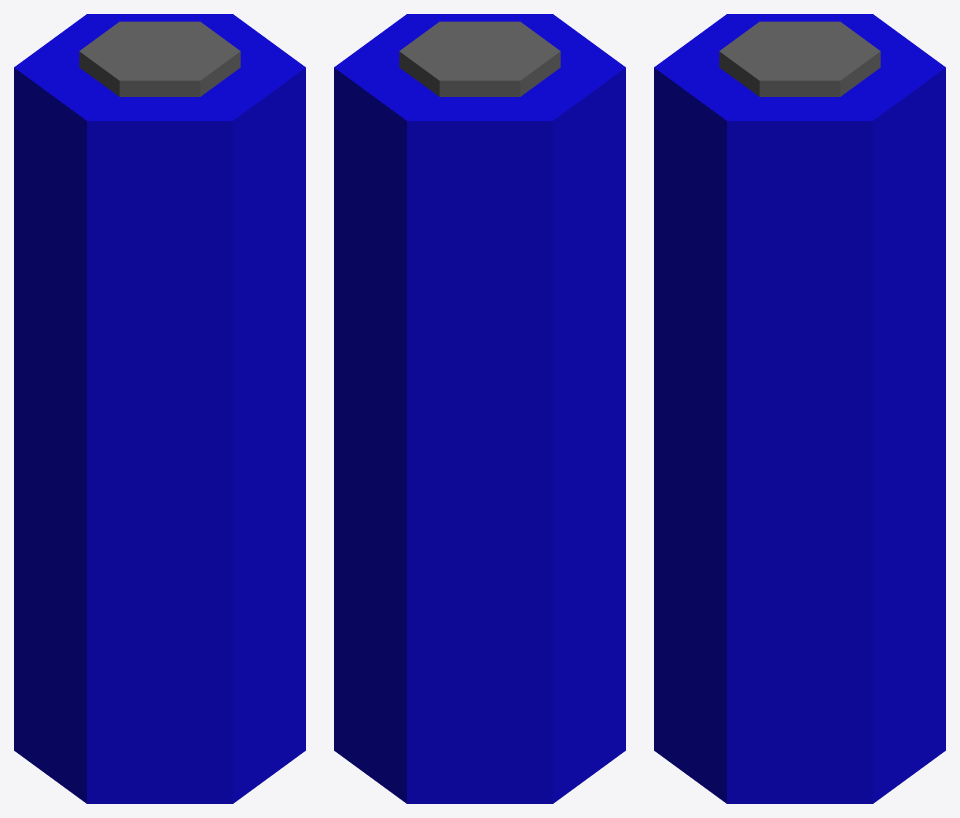
File: SM_Battery.fbx
The picture shows the model from 3 angles, left to right: view 1: azimuth 30°, elevation 25°; view 2: azimuth 150°, elevation 25°; view 3: azimuth 270°, elevation 25°; orthographic projection.
Parts seen in each view (by area): view 1: Circle; view 2: Circle; view 3: Circle.
Part boxes in pixels (x1,y1,x2,y2): Circle: (14, 14, 305, 803); Circle: (334, 14, 625, 803); Circle: (654, 14, 945, 803).
Bounding box in the file's own units: 38.1 × 116 × 43.99.
